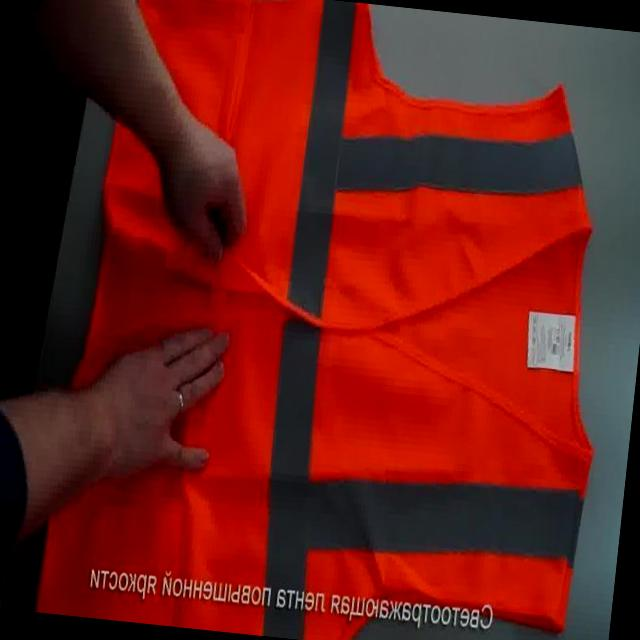vest: (33, 0, 640, 640)
